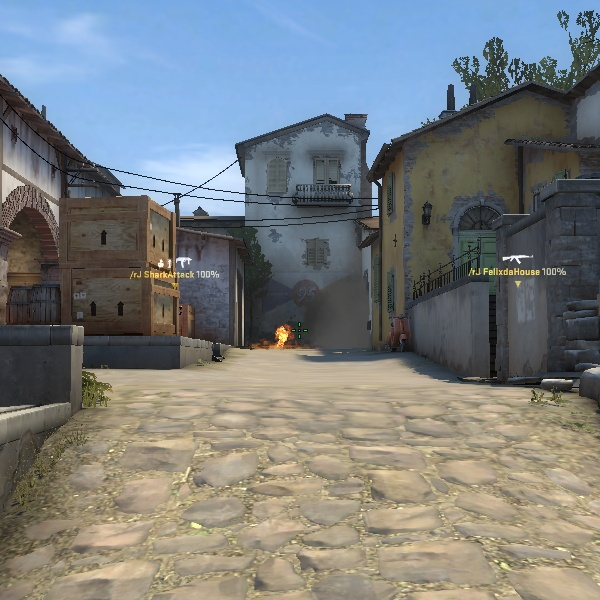t_body: (267, 318, 304, 351)
